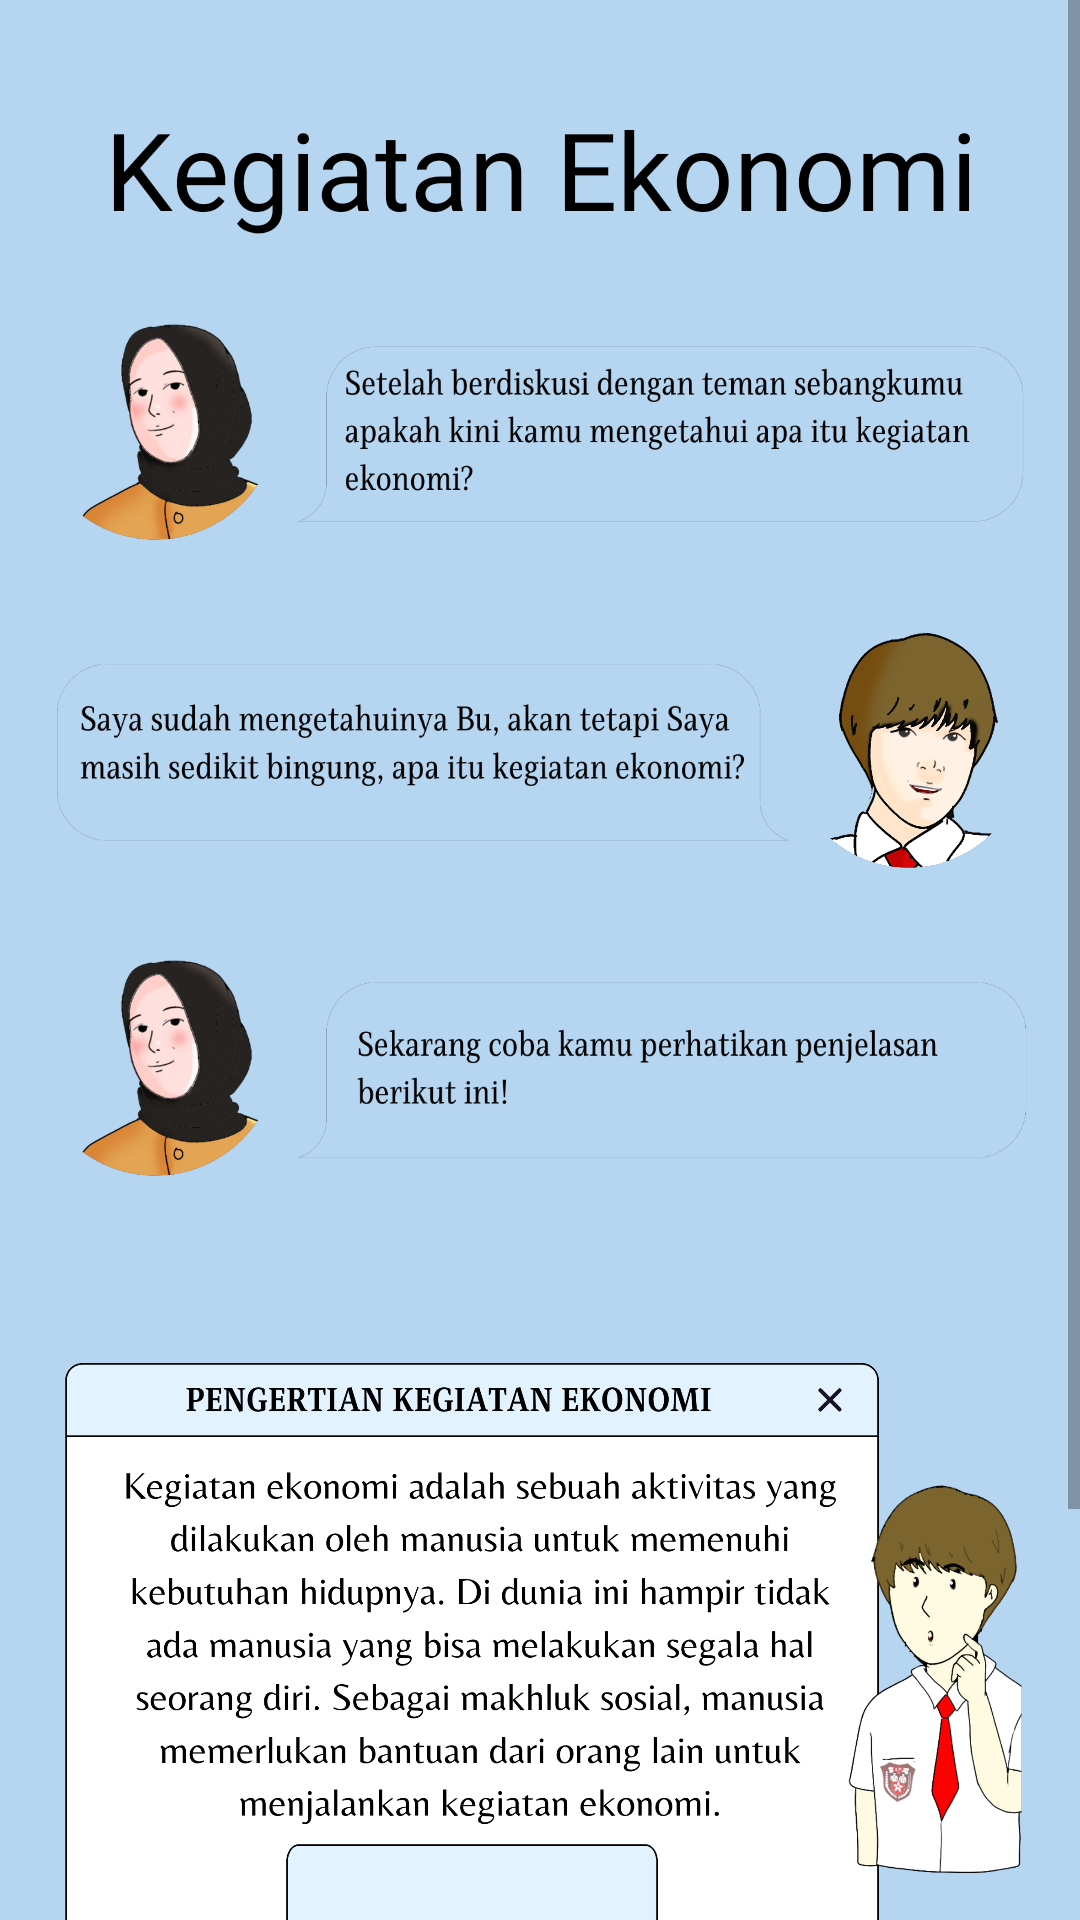

Icons on this 1080px x 1920px Android screen, each with its box as detection(x1, y1, x2, y2):
assets nine guru: detection(82, 324, 258, 540), detection(82, 960, 258, 1176)
assets nine siswa: detection(830, 633, 998, 868)
